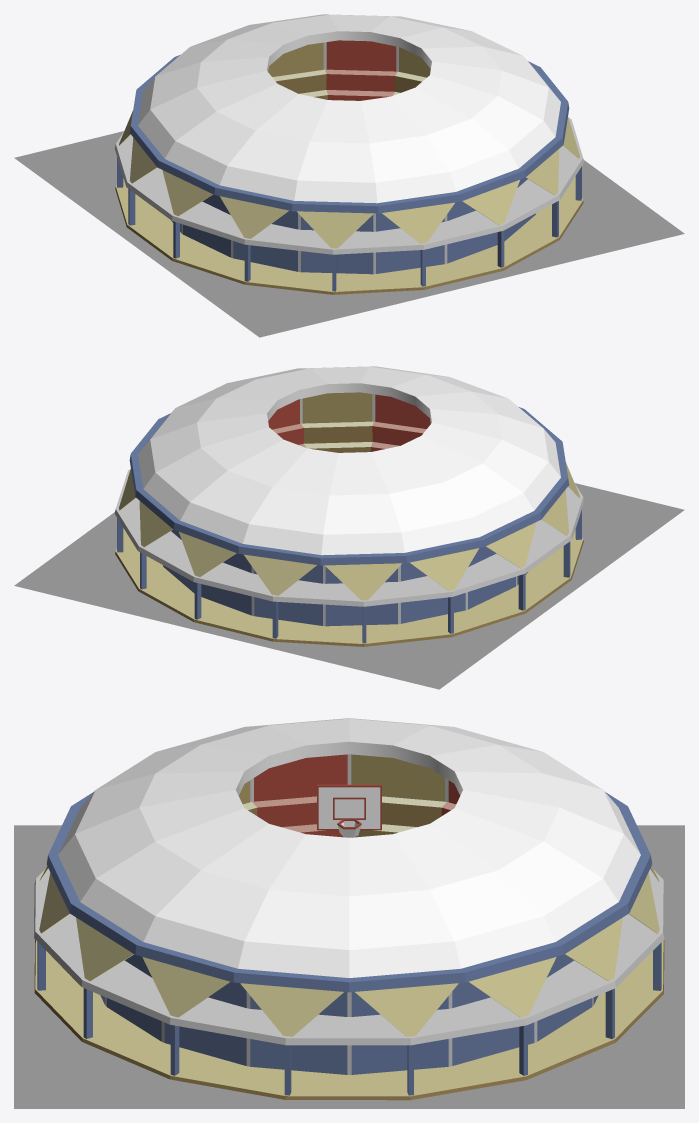
The model's file is stadium_007.glb.
3 views of the same model, one above another, from view 1: azimuth 30°, elevation 25°; view 2: azimuth 150°, elevation 25°; view 3: azimuth 270°, elevation 25° (orthographic). The views are drawn at different scales.
Visible parts, largest first — view 1: stadium_007; view 2: stadium_007; view 3: stadium_007.
Boxes of the visible parts, x1,y1,x2,y2 form: stadium_007: [14, 14, 684, 337]; stadium_007: [14, 366, 684, 689]; stadium_007: [14, 718, 684, 1108].
Size of the model in its own units: 16 by 4.74 by 16.
1 material, 1 textured.
